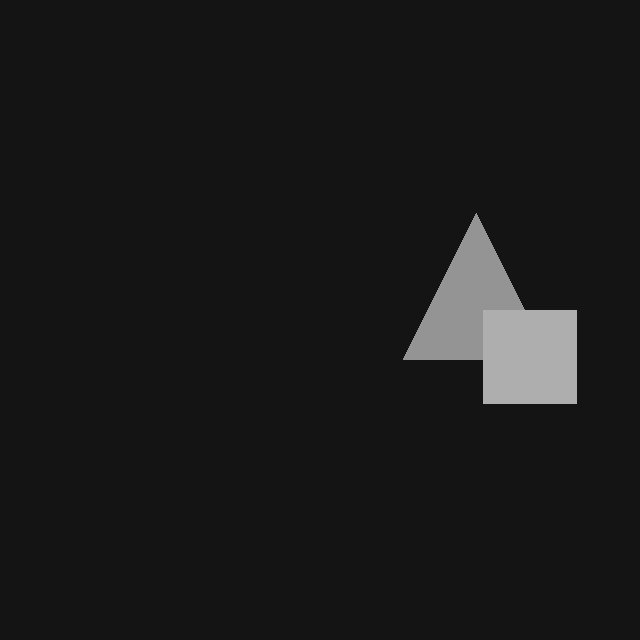square: (483, 310, 576, 403)
triangle: (403, 213, 549, 359)
